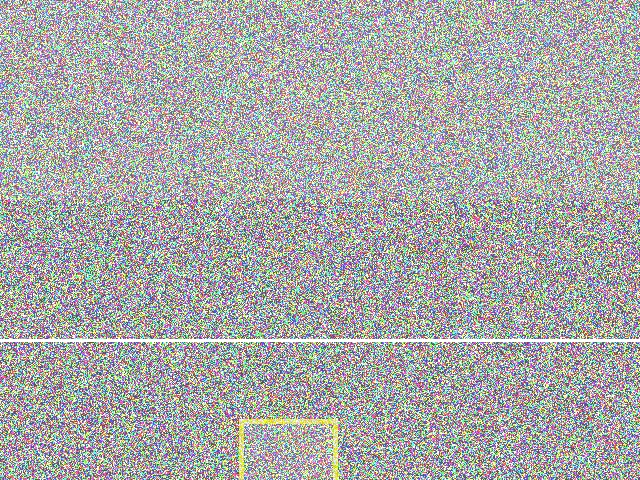bus: (246, 363, 359, 468)
truck: (94, 305, 246, 427)
